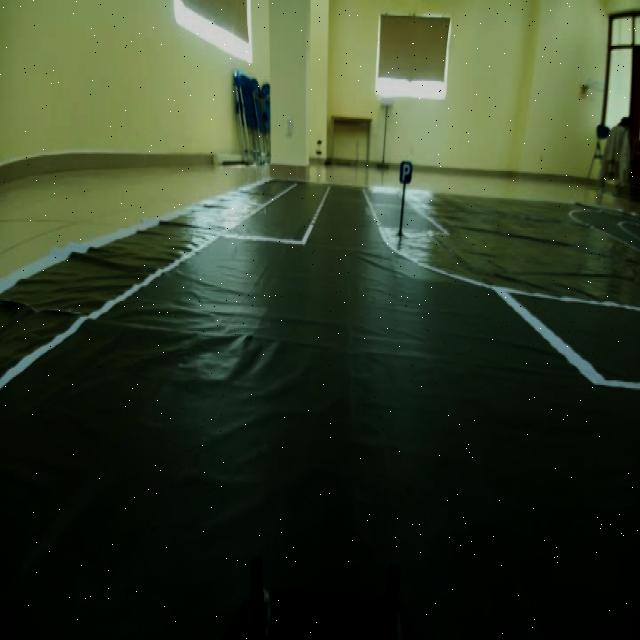parking: (395, 150, 415, 192)
